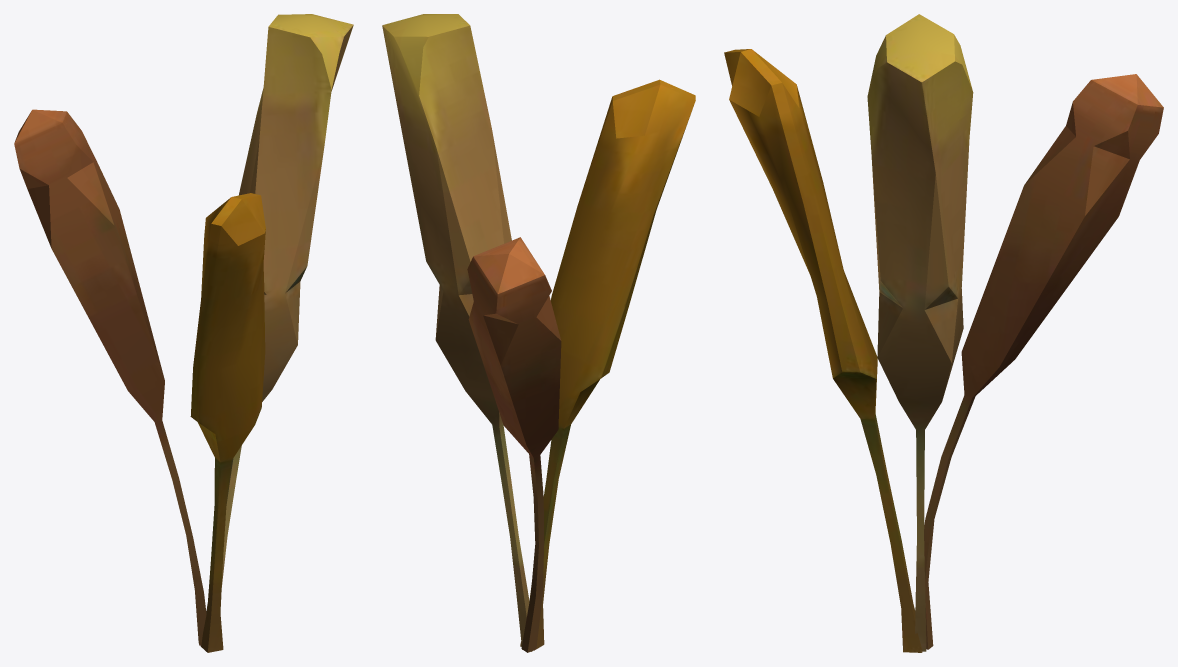
File: FOL_Flower_Big_03.obj
3 renders of one model, left to right at view 1: azimuth 30°, elevation 25°; view 2: azimuth 150°, elevation 25°; view 3: azimuth 270°, elevation 25°, orthographic. The views are drawn at different scales.
Parts seen in each view (by area): view 1: FOL_Flower_Big_03; view 2: FOL_Flower_Big_03; view 3: FOL_Flower_Big_03.
Part boxes in pixels (x1,y1,x2,y2): FOL_Flower_Big_03: (14, 14, 353, 652); FOL_Flower_Big_03: (382, 14, 695, 652); FOL_Flower_Big_03: (724, 14, 1163, 652).
Size of the model in its own units: 0.6609 by 1.52 by 0.908.
1 material, 1 textured.
